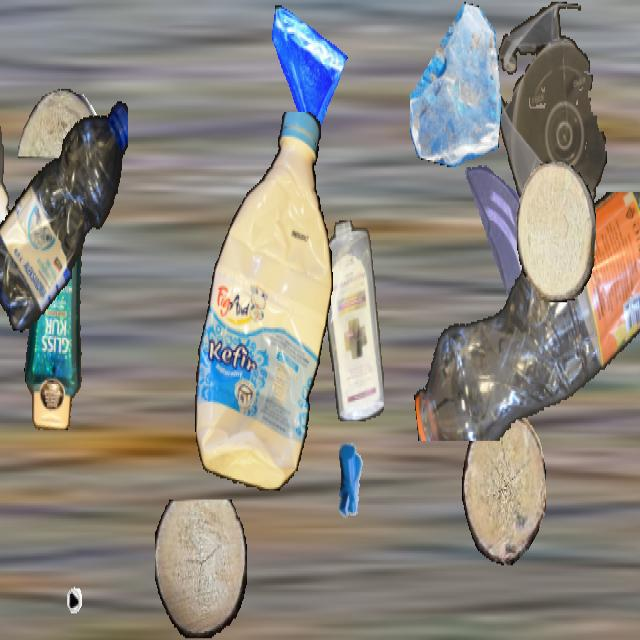glass: (410, 2, 502, 165), (461, 158, 545, 308), (266, 2, 348, 148)
metal: (320, 428, 382, 538), (29, 516, 89, 622)
plastic: (409, 192, 640, 441), (191, 112, 333, 489), (0, 89, 127, 338), (496, 2, 608, 236), (20, 176, 92, 428), (323, 220, 383, 420), (0, 2, 11, 233)
wood: (462, 412, 546, 566), (155, 500, 247, 638), (517, 162, 595, 300), (18, 89, 102, 156)
